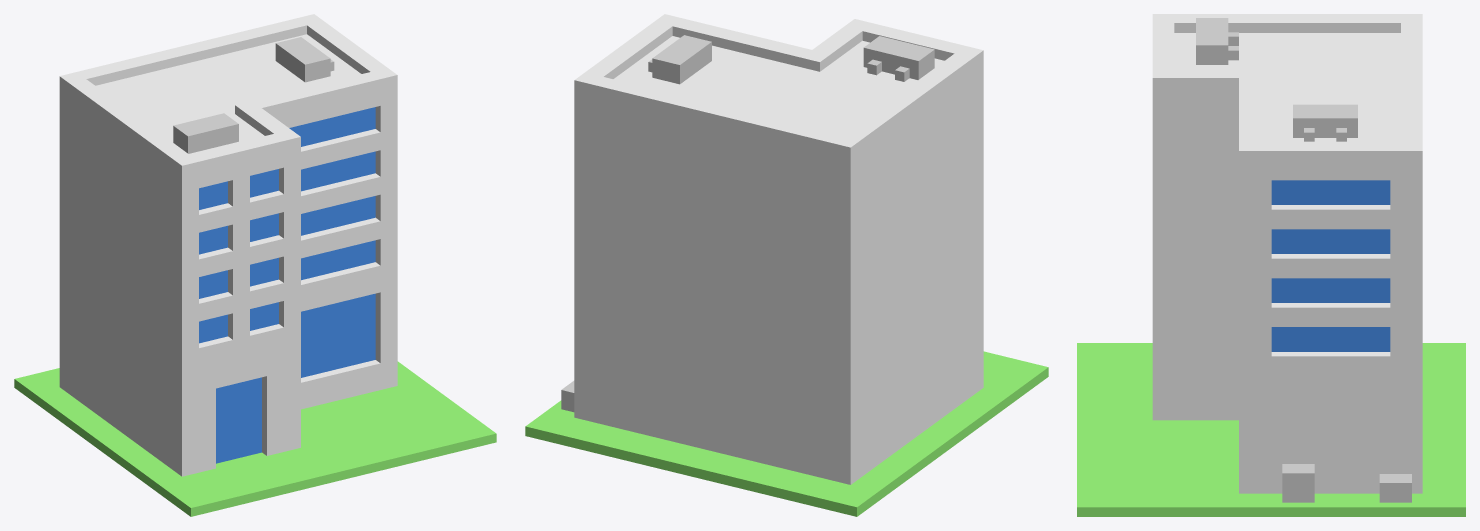
The model's file is mega building.obj.
3 views of the same model, side by side, from view 1: azimuth 30°, elevation 25°; view 2: azimuth 150°, elevation 25°; view 3: azimuth 270°, elevation 25° (orthographic). The views are drawn at different scales.
Size of the model in its own units: 3.6 by 3.7 by 3.6.
Materials: 1 (1 with a texture image).
